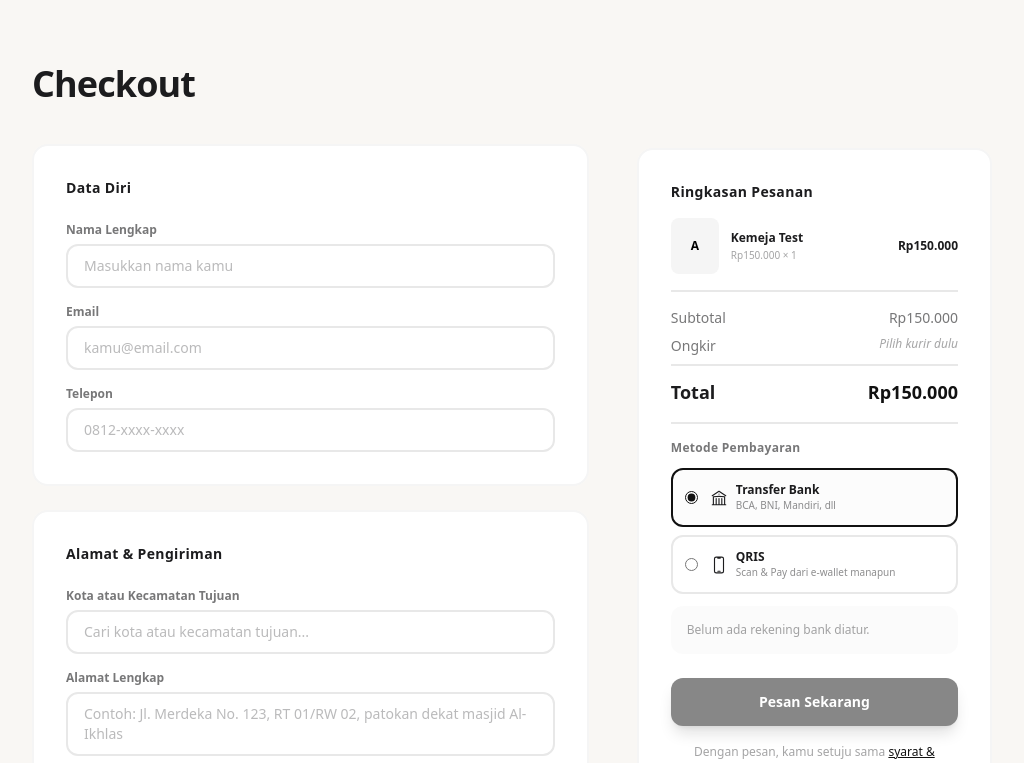
Test: CheckoutPage — Autocomplete Search › menampilkan loading state di dalam dropdown saat fetch
Type "jakarta" into the field with placeholder "Cari kota atau kecamatan tujuan...".
click(310, 632); type("jakarta")  # box [66,610,555,654]
Wait 400 ms
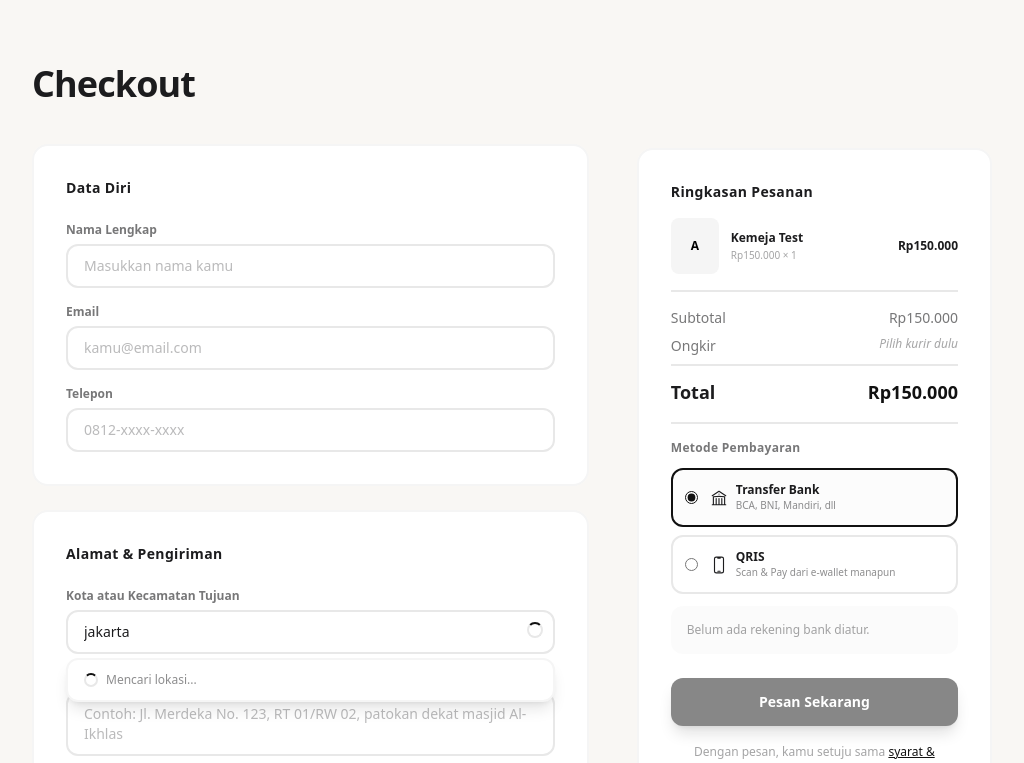
Expected: the text "Mencari lokasi..." is shown, [84,671,197,688]
